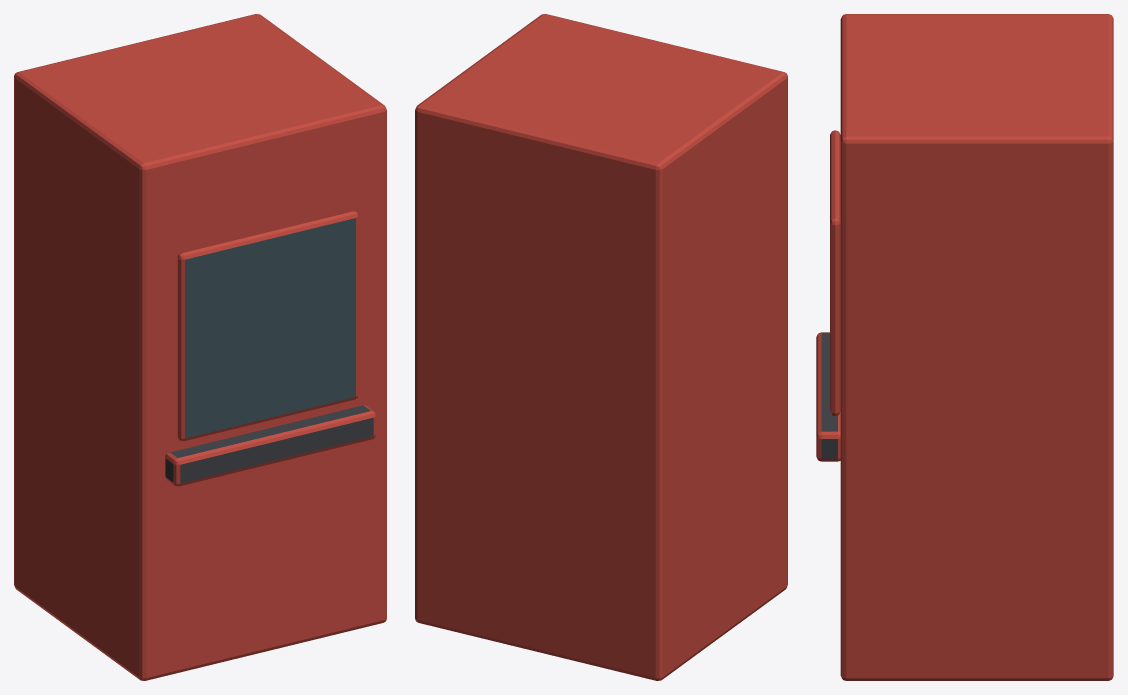
The model's file is prop_newspaper_box.glb.
3 renders of one model, left to right at view 1: azimuth 30°, elevation 25°; view 2: azimuth 150°, elevation 25°; view 3: azimuth 270°, elevation 25°, orthographic. The views are drawn at different scales.
Parts seen in each view (by area): view 1: newspaper_box.001; view 2: newspaper_box.001; view 3: newspaper_box.001.
Part boxes in pixels (x1=…): newspaper_box.001: x1=14, y1=14, x2=386, y2=680; newspaper_box.001: x1=415, y1=14, x2=787, y2=680; newspaper_box.001: x1=816, y1=14, x2=1113, y2=680.
Size of the model in its own units: 0.55 by 1.1 by 0.545.
